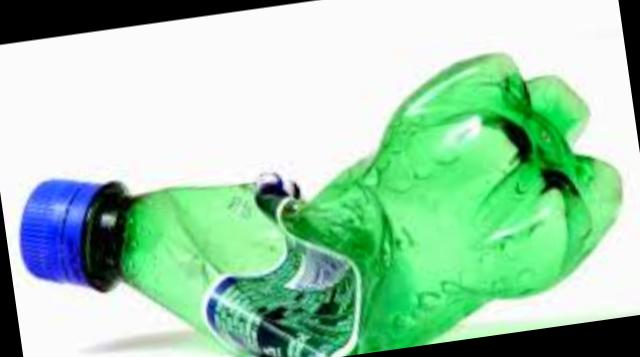plastic: (22, 49, 623, 357)
